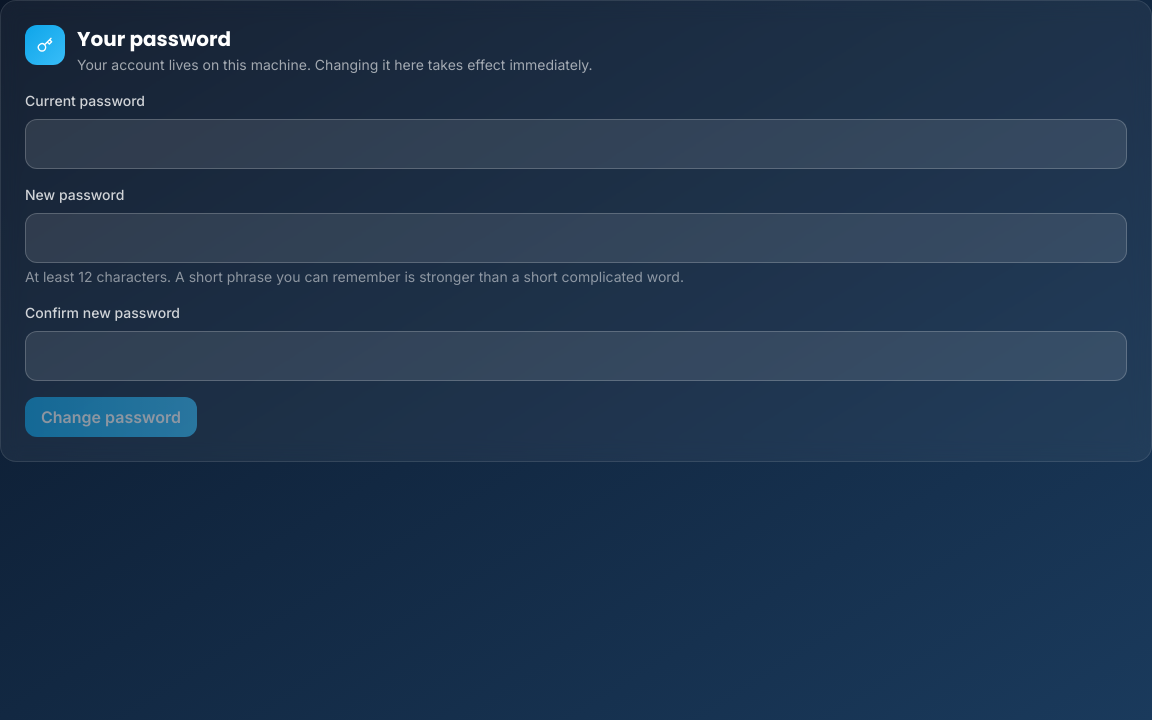
Test: changing your own password › clears the fields after a successful change
The width and height of the screenshot is (1152, 720).
Type "my old passphrase" into the password field labelled "Current password" at (576, 144), box [25,119,1127,169]
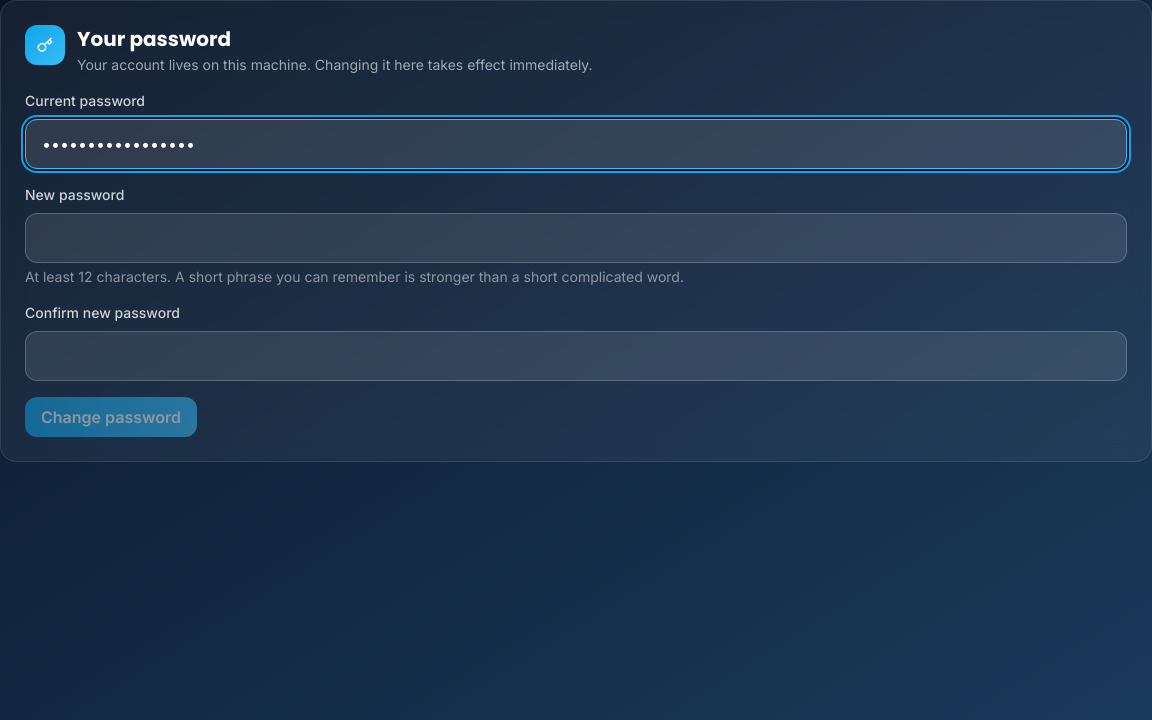
Type "my brand new passphrase" into the password field labelled "New password" at (576, 238), box [25,213,1127,263]
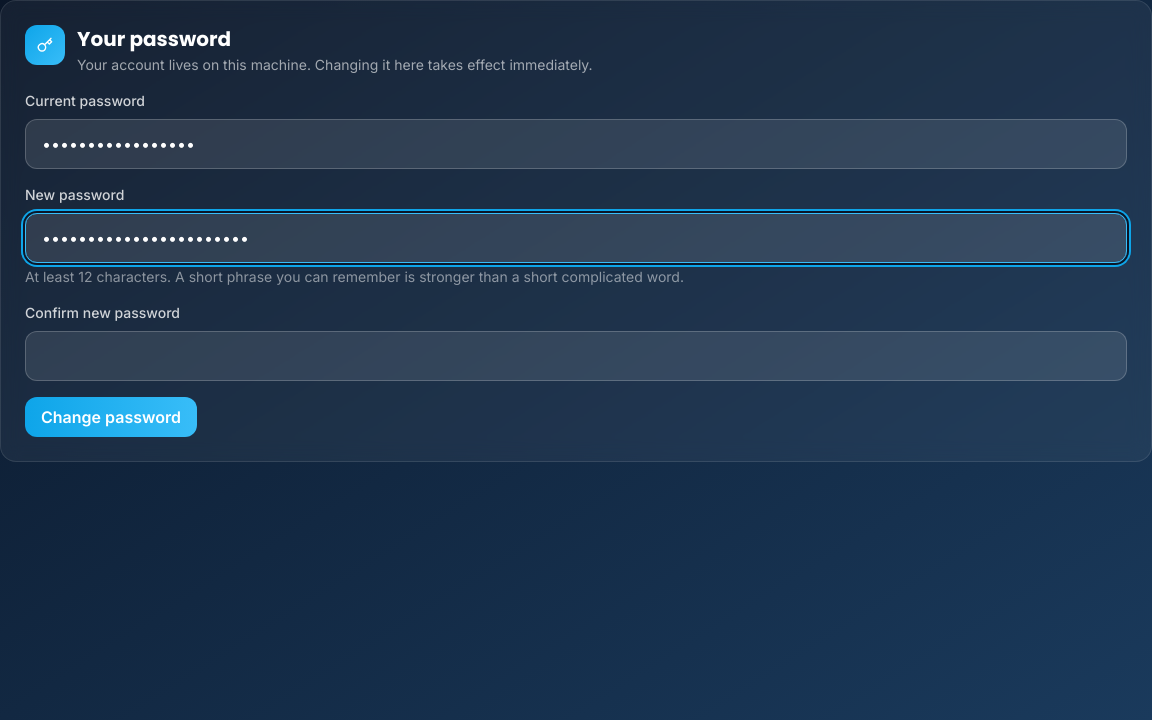
Type "my brand new passphrase" into the password field labelled "Confirm new password" at (576, 356), box [25,331,1127,381]
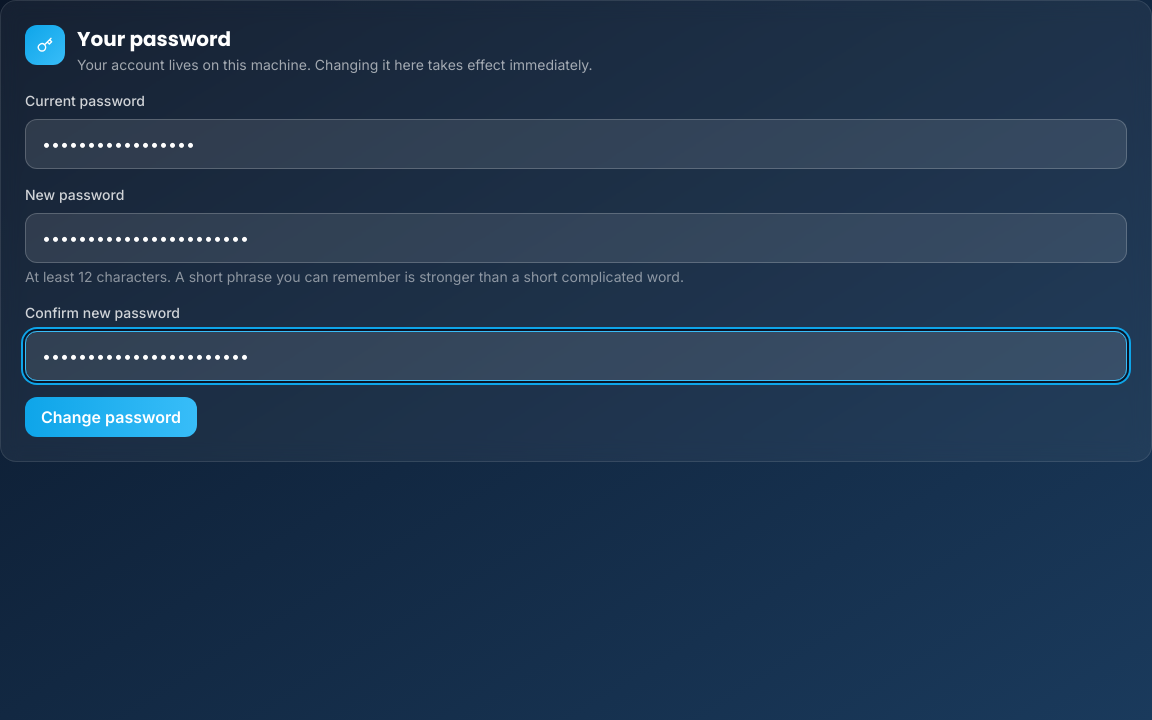
Click the button "Change password" at (111, 417), box [25,397,197,437]
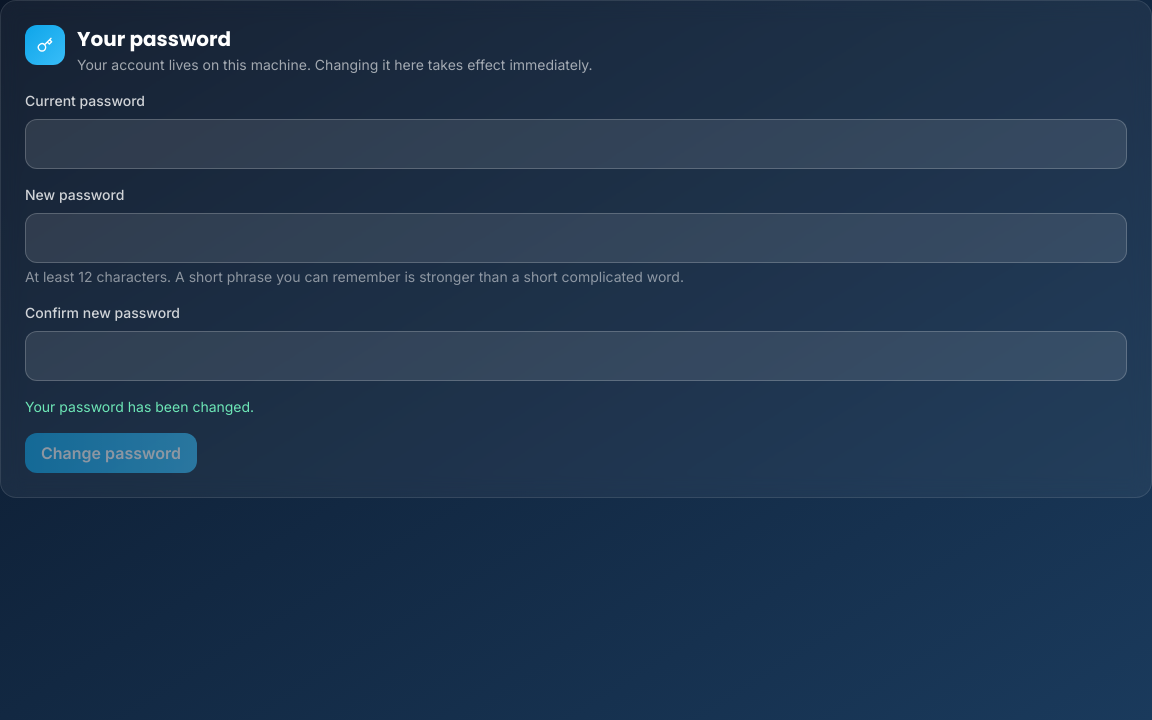
Expected: the text "Your password has been changed." is shown, [25,398,254,415]
Expected: the password field labelled "Current password" is empty, [25,119,1127,169]
Expected: the password field labelled "New password" is empty, [25,213,1127,263]
